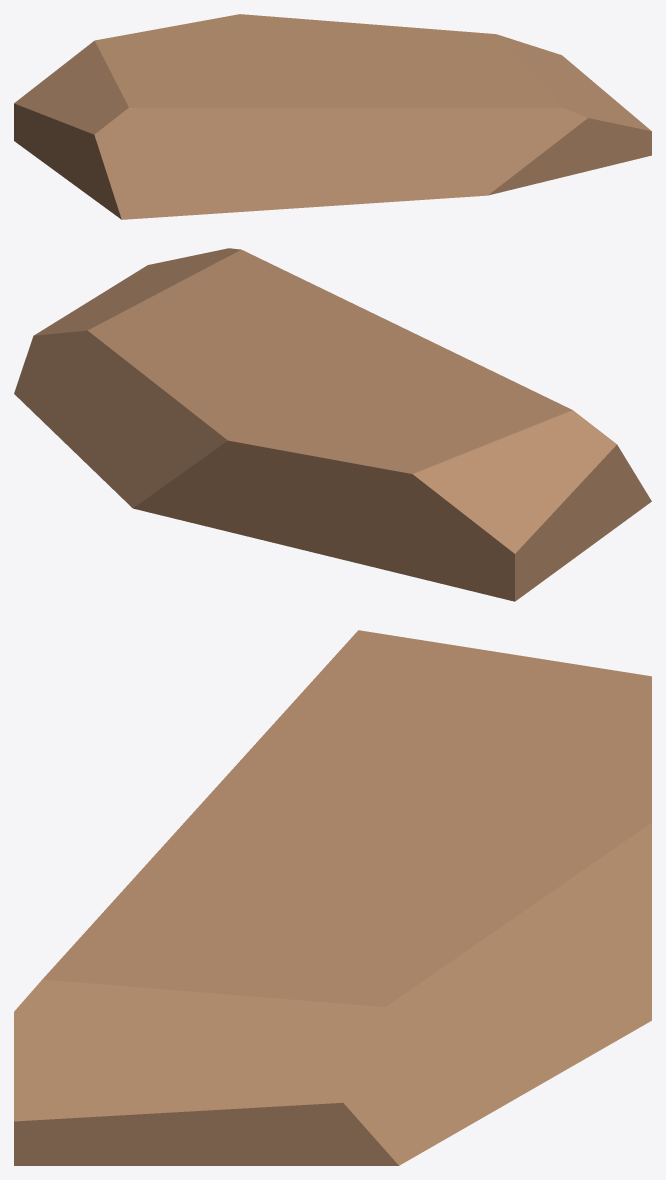
The model's file is Rock_Flat_s_08.fbx.
3 views of the same model, one above another, from view 1: azimuth 30°, elevation 25°; view 2: azimuth 150°, elevation 25°; view 3: azimuth 270°, elevation 25° (orthographic). The views are drawn at different scales.
Parts seen in each view (by area): view 1: Rock_Flat_s_08; view 2: Rock_Flat_s_08; view 3: Rock_Flat_s_08.
Part boxes in pixels (box(x1,y1,x2,y2)): Rock_Flat_s_08: box(14, 14, 651, 219); Rock_Flat_s_08: box(14, 248, 651, 601); Rock_Flat_s_08: box(14, 630, 651, 1165).
Size of the model in its own units: 77.33 by 13.34 by 50.4.
